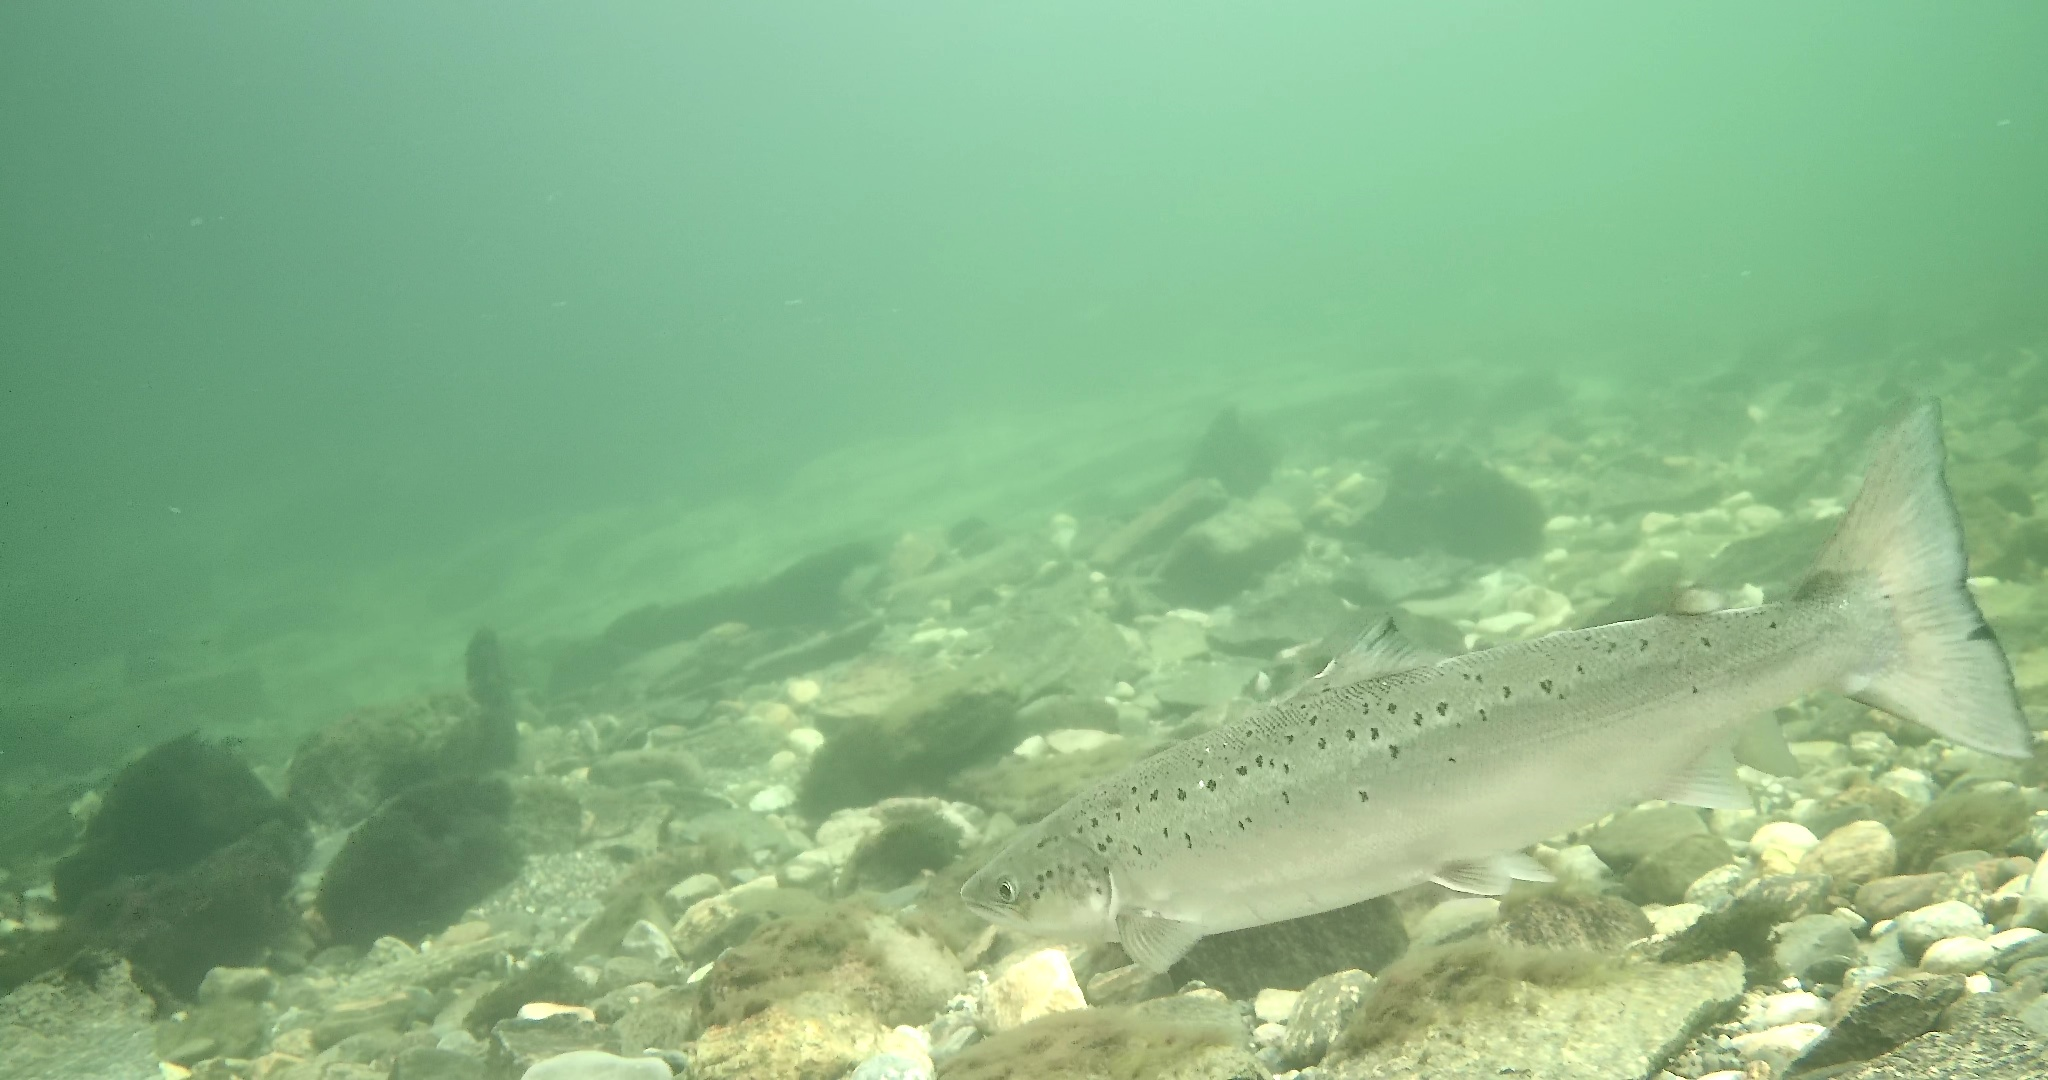salmon: (958, 392, 2037, 977)
